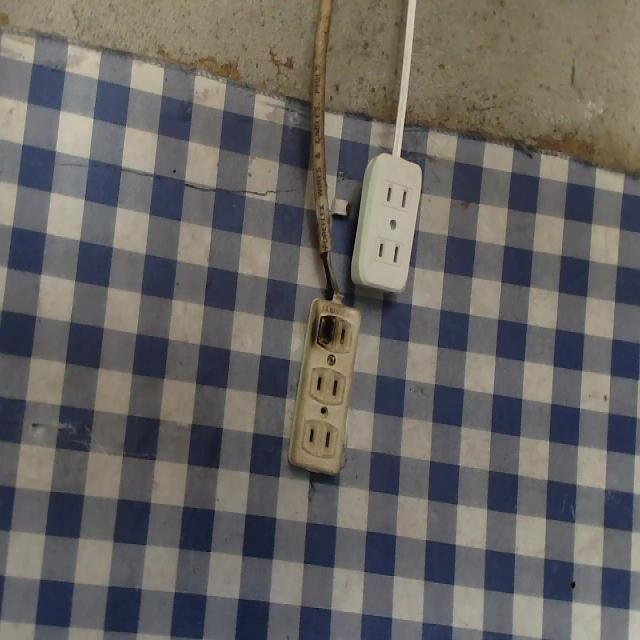-: (314, 307, 340, 352)
